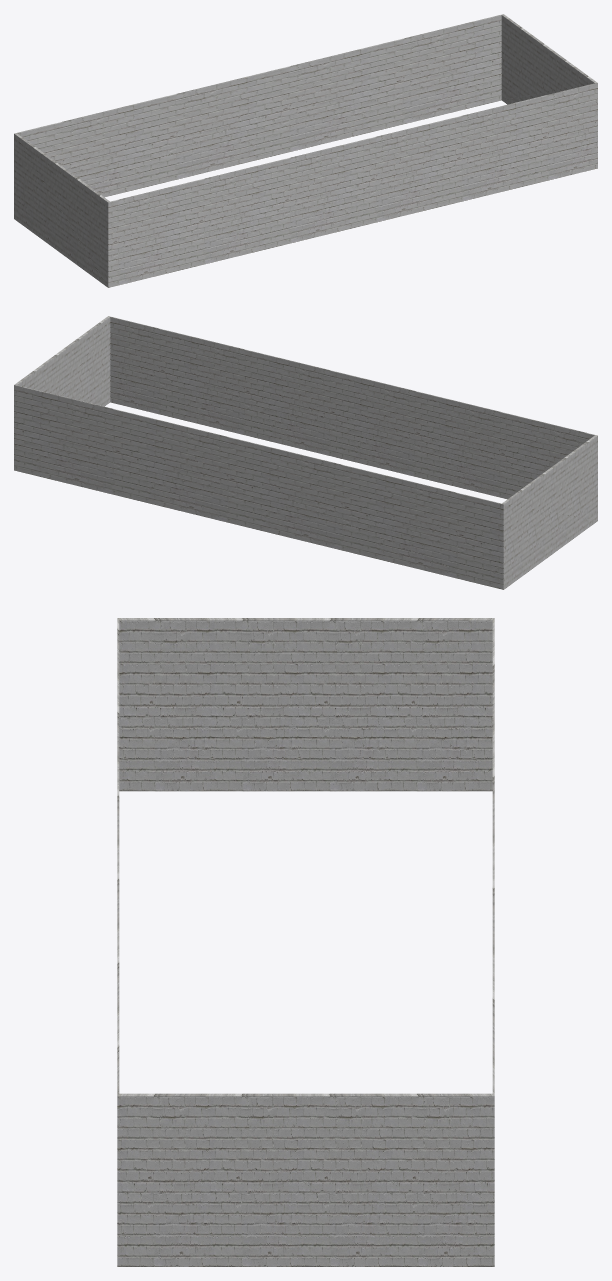
The model's file is room.obj.
3 views of the same model, one above another, from view 1: azimuth 30°, elevation 25°; view 2: azimuth 150°, elevation 25°; view 3: azimuth 270°, elevation 25° (orthographic). The views are drawn at different scales.
Parts seen in each view (by area): view 1: Cube; view 2: Cube; view 3: Cube.
Boxes of the visible parts, bbox=[...] form: Cube: bbox=[14, 14, 597, 287]; Cube: bbox=[14, 316, 597, 589]; Cube: bbox=[117, 618, 494, 1266].
Size of the model in its own units: 60 by 10 by 20.
